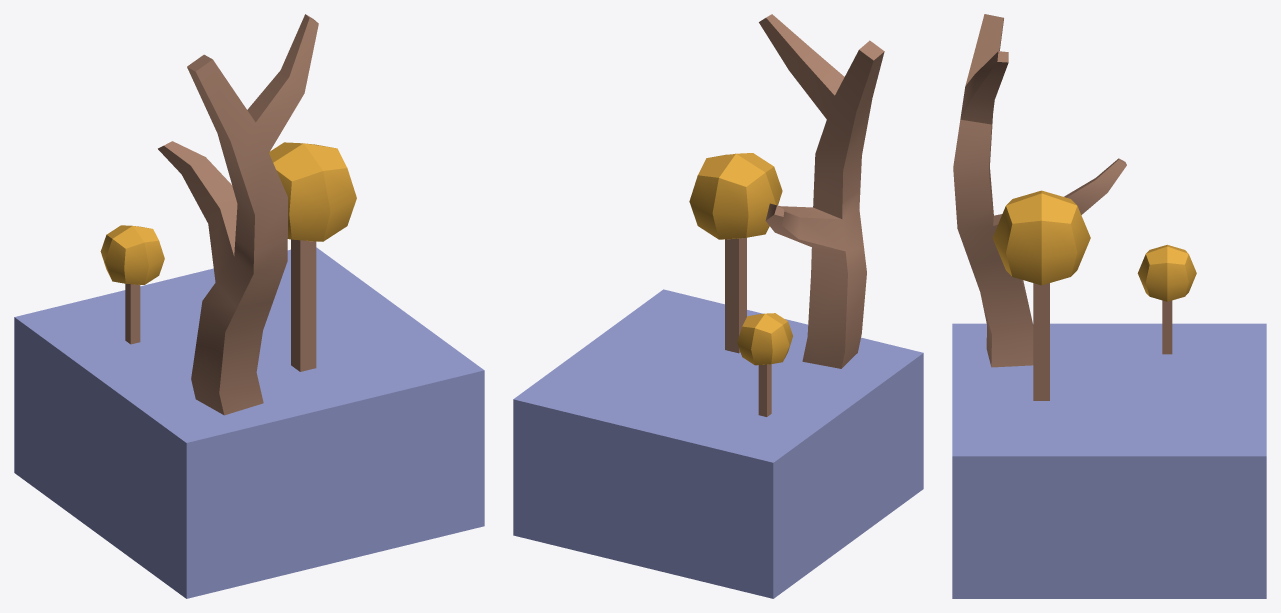
Rendered from treeSmallWithFlowers.fbx.
The picture shows the model from 3 angles, left to right: view 1: azimuth 30°, elevation 25°; view 2: azimuth 150°, elevation 25°; view 3: azimuth 270°, elevation 25°; orthographic projection. The views are drawn at different scales.
Parts seen in each view (by area): view 1: treeSmallWFlowers; view 2: treeSmallWFlowers; view 3: treeSmallWFlowers.
Part boxes in pixels (<box>): treeSmallWFlowers: <box>14,14,484,598</box>; treeSmallWFlowers: <box>513,14,923,598</box>; treeSmallWFlowers: <box>952,14,1266,598</box>.
Bounding box in the file's own units: 200 × 338 × 200.
